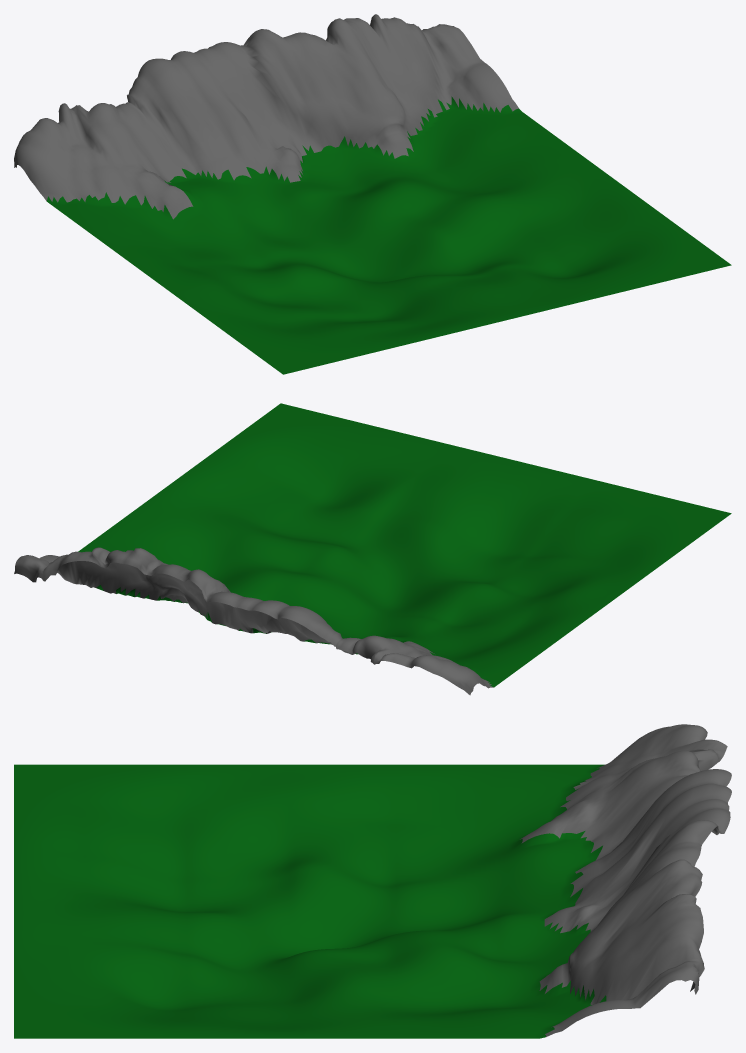
File: LowPolyLandscape02.fbx
3 views of the same model, one above another, from view 1: azimuth 30°, elevation 25°; view 2: azimuth 150°, elevation 25°; view 3: azimuth 270°, elevation 25° (orthographic). The views are drawn at different scales.
Visible parts, largest first — view 1: Landscape.004, Landscape.000; view 2: Landscape.004, Landscape.000; view 3: Landscape.004, Landscape.000.
Boxes of the visible parts, x1,y1,x2,y2 form: Landscape.004: (46,96,731,374); Landscape.000: (14,14,518,219); Landscape.004: (78,403,731,687); Landscape.000: (14,547,493,695); Landscape.004: (14,764,606,1038); Landscape.000: (520,724,731,1036).
Bounding box in the file's own units: 10107 × 2730 × 11081.
